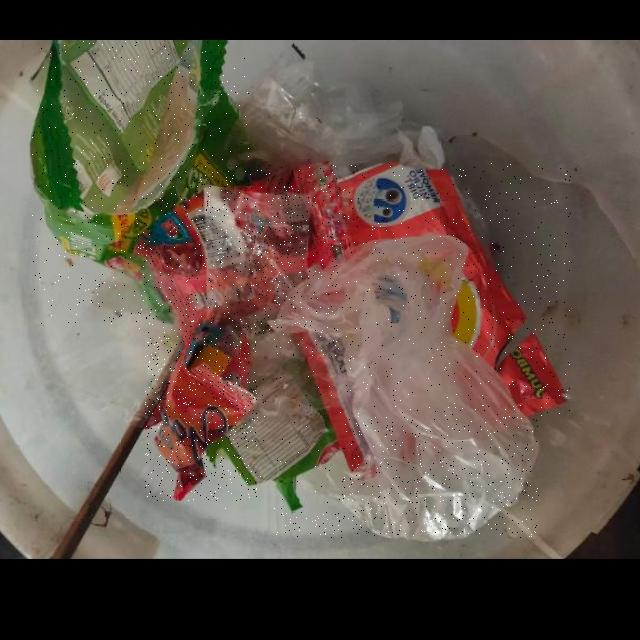plastic: (274, 235, 539, 538)
wrapper: (32, 41, 250, 323), (339, 163, 572, 417), (138, 165, 351, 338), (205, 356, 341, 511), (146, 311, 257, 500)
